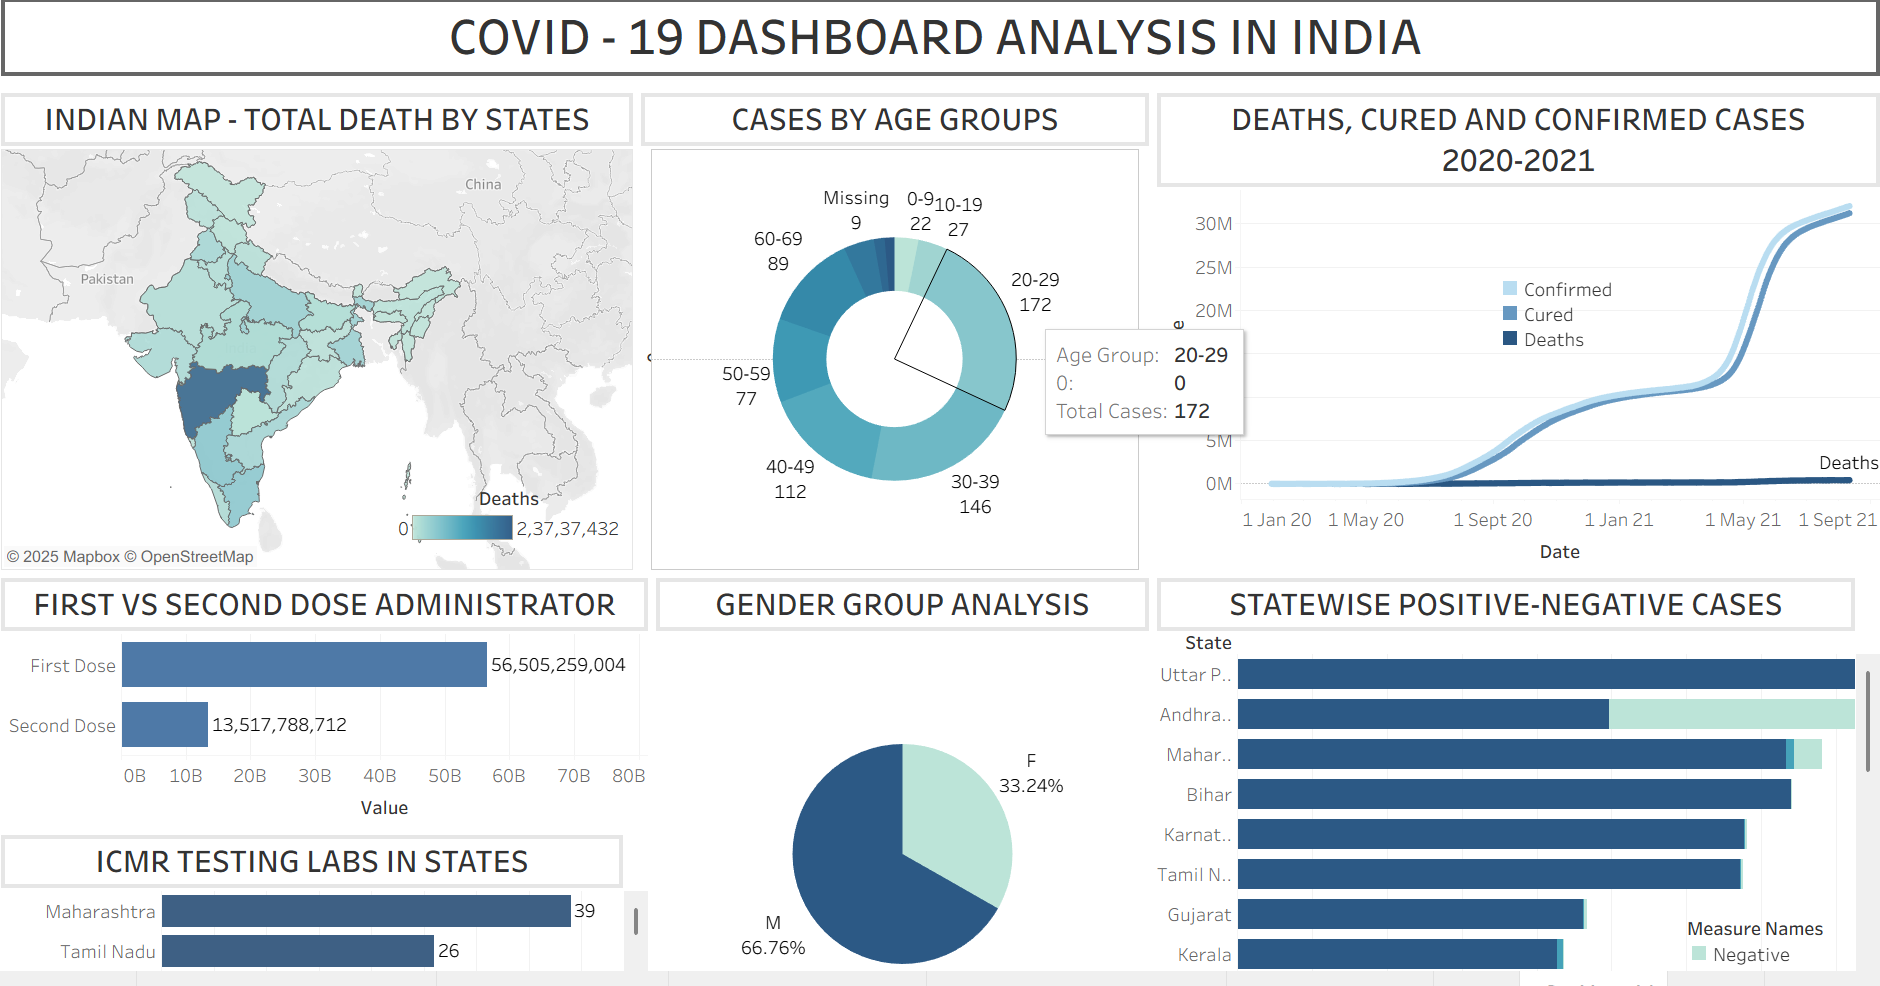

Layout of this report page (visuals, bound fields, positions):
{"tool":"tableau","page":{"name":"Dashboard 1","canvas":[1000,1000],"units":"permille","ordinal":0},"visuals":[{"type":"worksheet","title":"Sheet 9","mark":"Automatic","box":[4.4,7.3,991.1,86.4]},{"type":"worksheet","title":"INDIAN MAP - TOTAL DEATH BY STATES","mark":"Automatic","box":[4.4,93.6,336.1,441.2]},{"type":"worksheet","title":"CASES BY AGE GROUPS","mark":"Pie","rows":["Calculation_1198801963372544001","Calculation_1198801963372650499"],"box":[340.6,93.6,271.1,441.2]},{"type":"worksheet","title":"DEATHS, CURED AND CONFIRMED CASES 2020-2021","mark":"Automatic","cols":["Date"],"box":[611.7,93.6,383.9,441.2]},{"type":"legend","title":"DEATHS, CURED AND CONFIRMED CASES 2020-2021","param":"[federated.0elcraf00jr4ox1bpp9v40xkhrkd].[:Measure Names]","box":[792.8,240,71.1,97.3]},{"type":"legend","title":"INDIAN MAP - TOTAL DEATH BY STATES","param":"[federated.0elcraf00jr4ox1bpp9v40xkhrkd].[sum:Deaths:qk]","box":[212.8,453.6,121.1,63.6]},{"type":"worksheet","title":"FIRST VS SECOND DOSE ADMINISTRATOR","mark":"Automatic","box":[4.4,534.9,343.9,233.1]},{"type":"worksheet","title":"GENDER GROUP ANALYSIS","mark":"Pie","box":[348.3,534.9,263.3,457.8]},{"type":"worksheet","title":"STATEWISE TESTING","mark":"Automatic","rows":["State"],"box":[611.7,534.9,383.9,457.8]},{"type":"worksheet","title":"ICMR TESTING LABS IN STATES","mark":"Automatic","rows":["state"],"cols":["lab"],"box":[4.4,768,343.9,224.8]},{"type":"legend","title":"STATEWISE TESTING","param":"[federated.1am15v10vk3yf71d605gk1nw0ute].[:Measure Names]","box":[892.2,844.6,83.9,91.8]},{"type":"legend","title":"GENDER GROUP ANALYSIS","param":"[federated.1hqp0bs1pqyw8f1dvje7a1cg9ypz].[none:gender:nk]","box":[369.4,908.2,46.1,69.1]}]}

Visuals, with their boxes on the dashboard's canvas, which has no fixed pixel size, in thousandths of its width and height (x1, y1, x2, y2). These are canvas units, not pixel positions in the 1880x986 screenshot, which may show the page scaled, cropped or inside an application window:
"Sheet 9" worksheet: 4,7,996,94
"INDIAN MAP - TOTAL DEATH BY STATES" worksheet: 4,94,340,535
"CASES BY AGE GROUPS" worksheet (Pie marks): 341,94,612,535
"DEATHS, CURED AND CONFIRMED CASES 2020-2021" worksheet: 612,94,996,535
"DEATHS, CURED AND CONFIRMED CASES 2020-2021" legend: 793,240,864,337
"INDIAN MAP - TOTAL DEATH BY STATES" legend: 213,454,334,517
"FIRST VS SECOND DOSE ADMINISTRATOR" worksheet: 4,535,348,768
"GENDER GROUP ANALYSIS" worksheet (Pie marks): 348,535,612,993
"STATEWISE TESTING" worksheet: 612,535,996,993
"ICMR TESTING LABS IN STATES" worksheet: 4,768,348,993
"STATEWISE TESTING" legend: 892,845,976,936
"GENDER GROUP ANALYSIS" legend: 369,908,416,977
